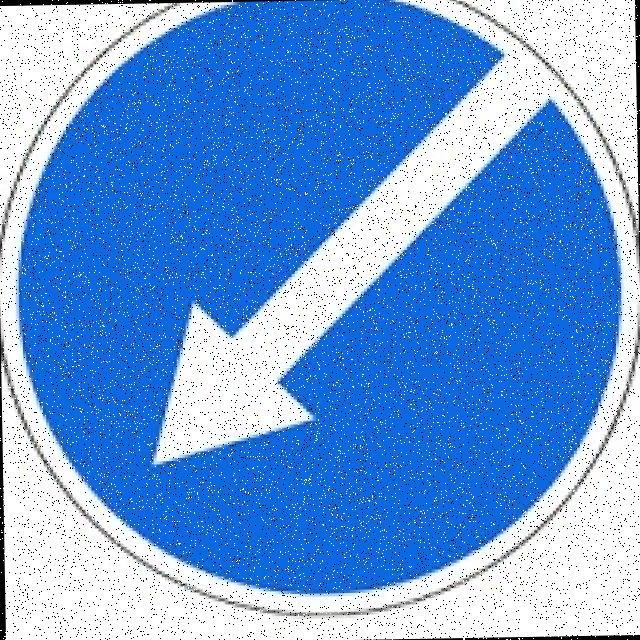compulsory_keep_right: (0, 0, 640, 626)
